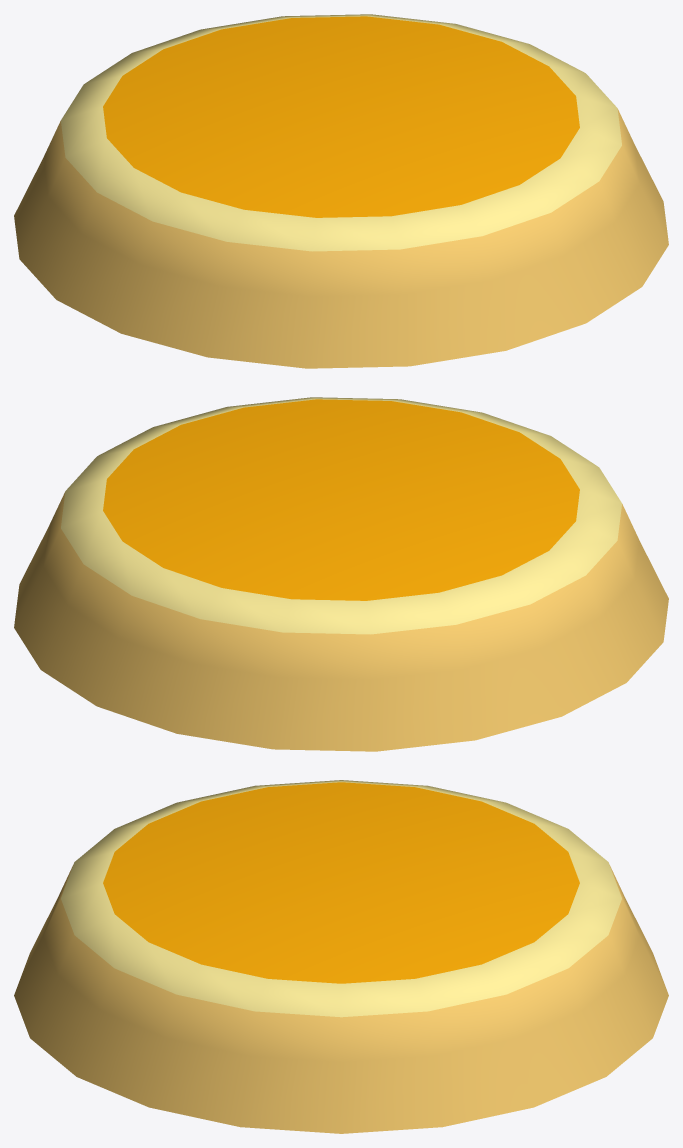
File: push.fbx
3 renders of one model, top to bottom at view 1: azimuth 30°, elevation 25°; view 2: azimuth 150°, elevation 25°; view 3: azimuth 270°, elevation 25°, orthographic.
Visible parts, largest first — view 1: push; view 2: push; view 3: push.
Part boxes in pixels (x1=…): push: x1=14, y1=14, x2=668, y2=368; push: x1=14, y1=397, x2=668, y2=751; push: x1=14, y1=780, x2=668, y2=1133.
Size of the model in its own units: 17.74 by 3.36 by 17.74.
